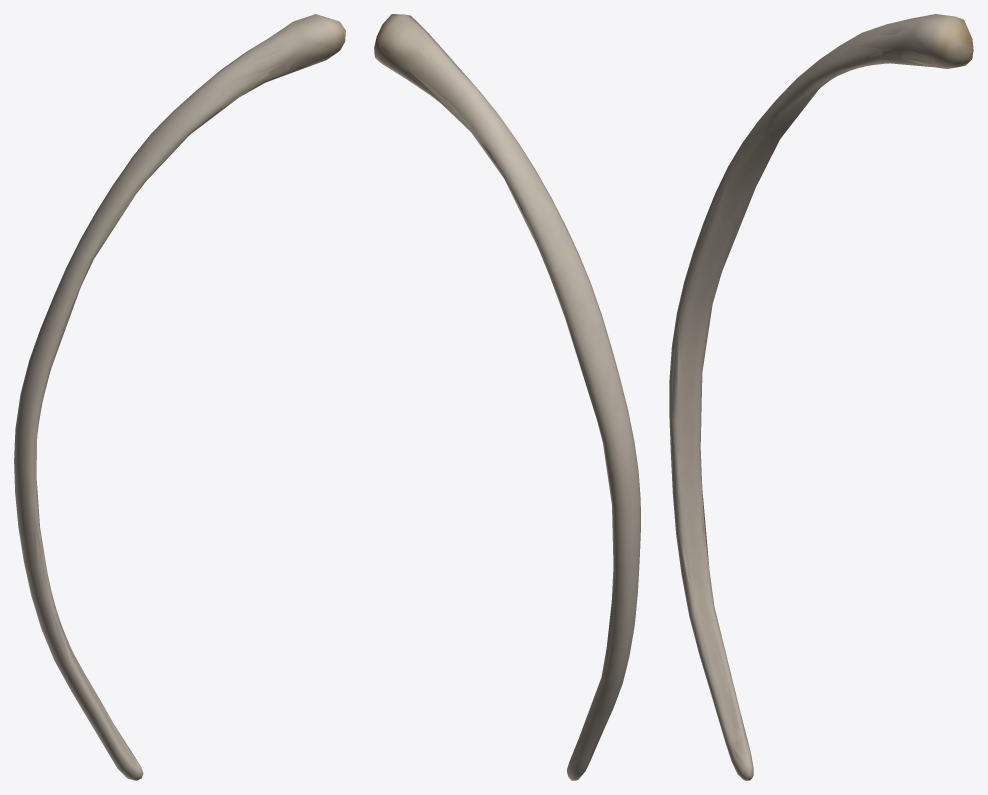
Rendered from Rib R12.fbx.
3 views of the same model, side by side, from view 1: azimuth 30°, elevation 25°; view 2: azimuth 150°, elevation 25°; view 3: azimuth 330°, elevation 25° (orthographic). The views are drawn at different scales.
Visible parts, largest first — view 1: Rib R12, Rib R12 low, Rib R12 high; view 2: Rib R12, Rib R12 low, Rib R12 high; view 3: Rib R12, Rib R12 low, Rib R12 high.
Part boxes in pixels (bbox=[...]): Rib R12: bbox=[14, 14, 345, 780]; Rib R12 low: bbox=[20, 15, 343, 777]; Rib R12 high: bbox=[18, 30, 339, 779]; Rib R12: bbox=[374, 14, 640, 780]; Rib R12 low: bbox=[376, 15, 640, 777]; Rib R12 high: bbox=[374, 37, 638, 772]; Rib R12: bbox=[669, 14, 973, 780]; Rib R12 low: bbox=[671, 14, 970, 772]; Rib R12 high: bbox=[671, 18, 968, 779].
Size of the model in its own units: 7.64 by 18.12 by 2.46.
1 material, 1 textured.
